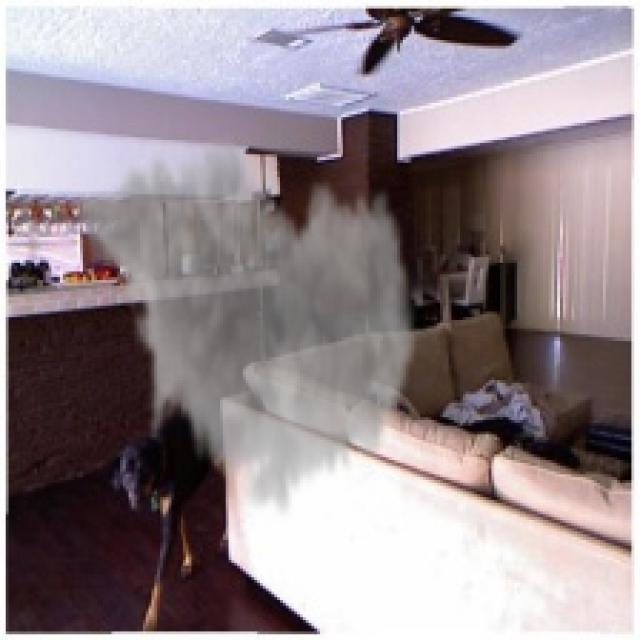Smoke: (71, 125, 420, 526)
